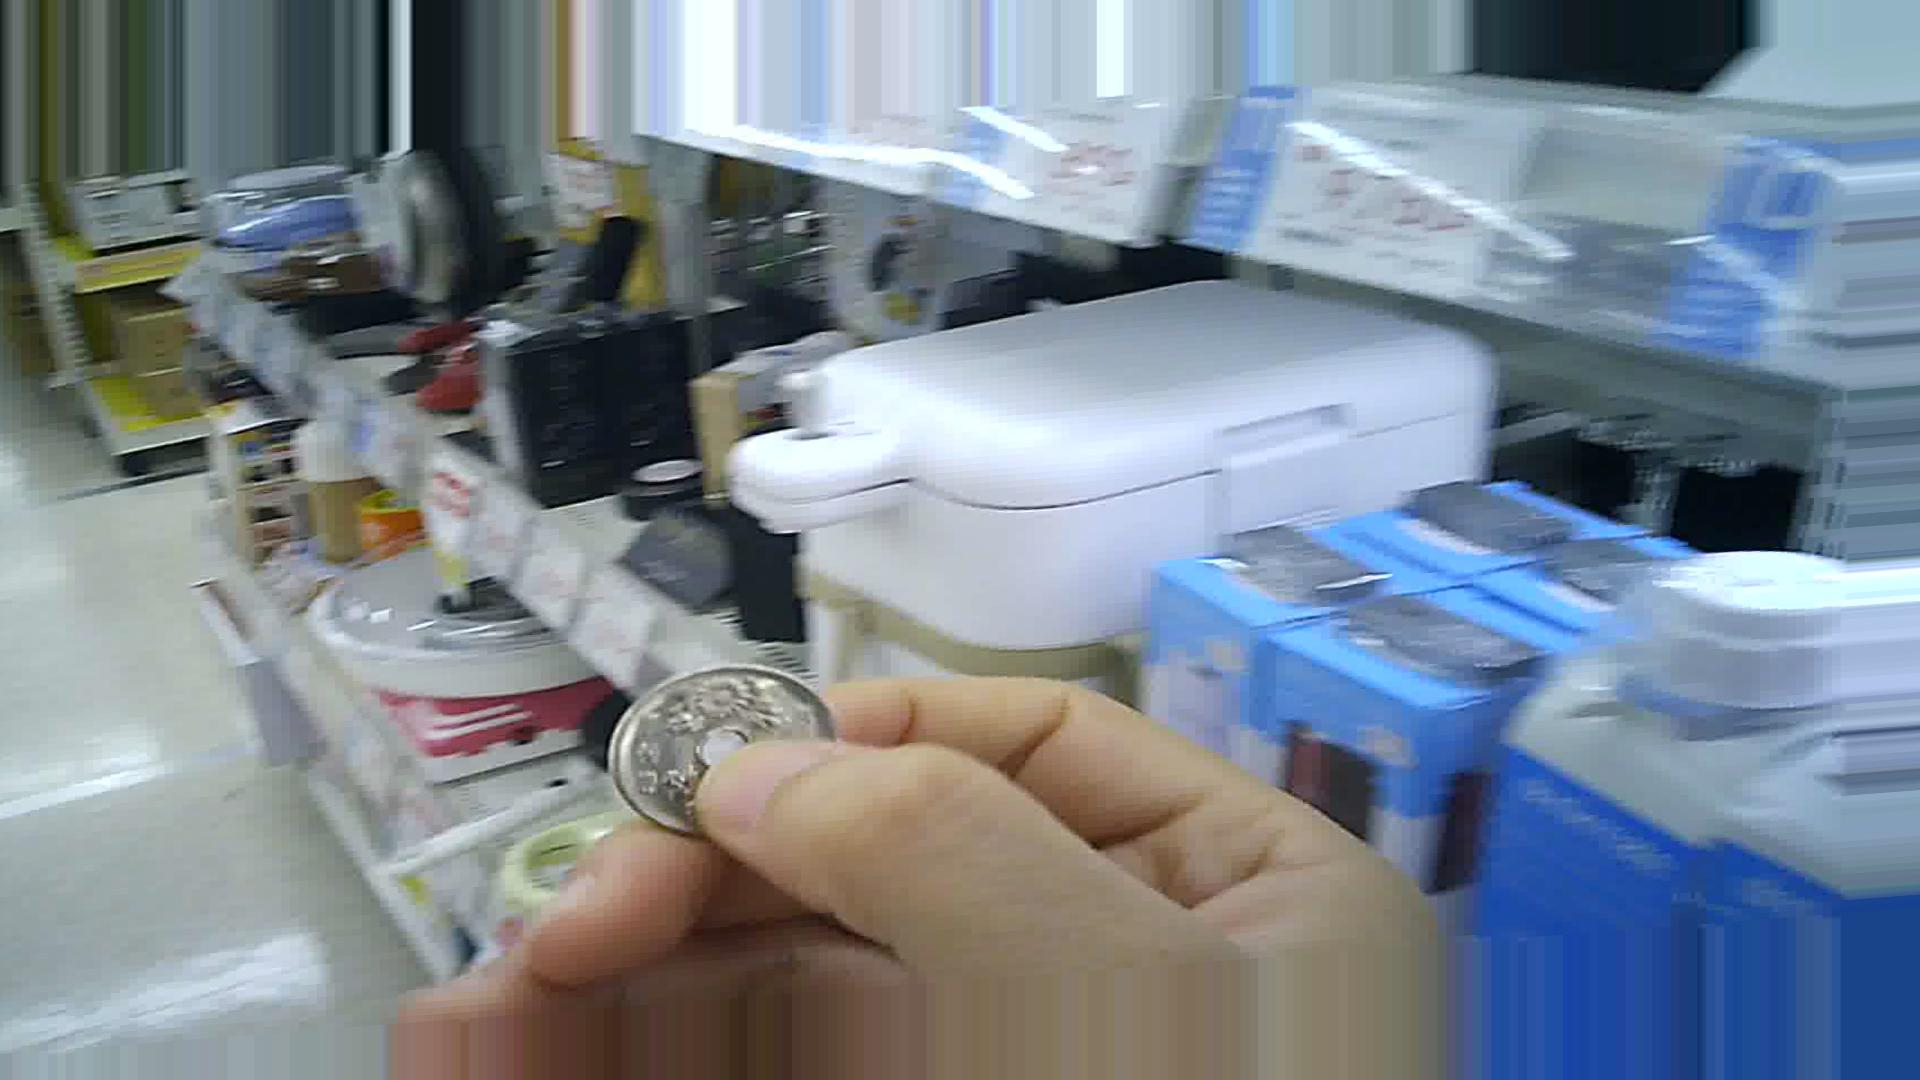50 Yen: (601, 665, 837, 833)
